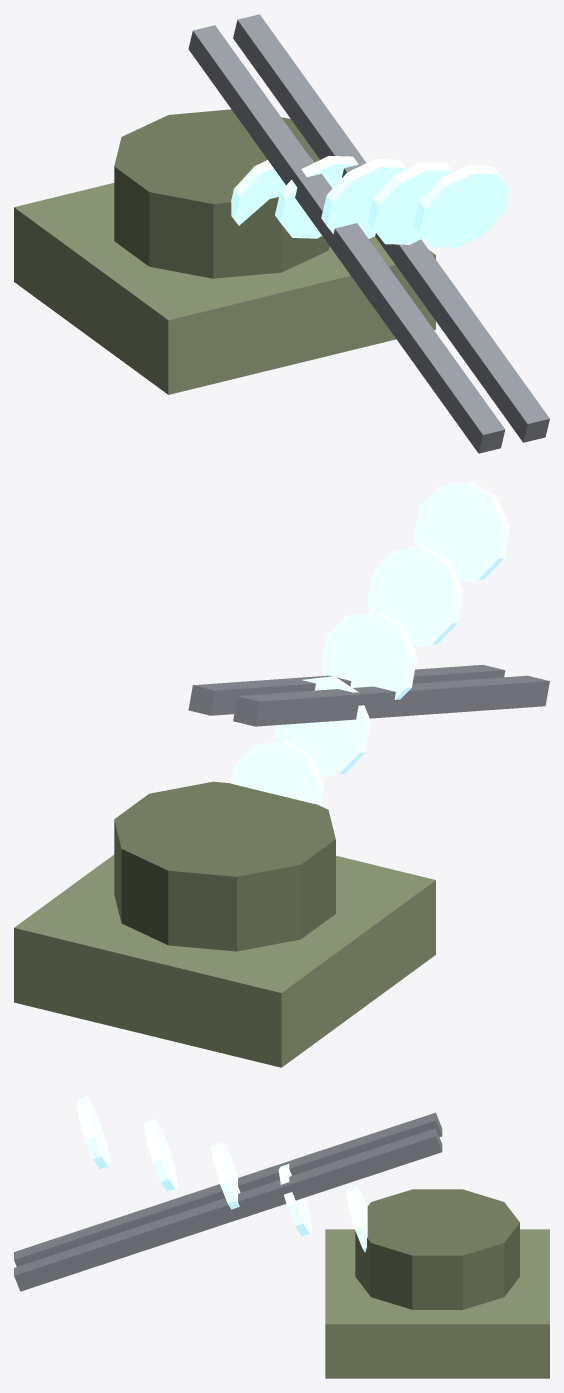
File: railgun.glb
3 renders of one model, top to bottom at view 1: azimuth 30°, elevation 25°; view 2: azimuth 150°, elevation 25°; view 3: azimuth 270°, elevation 25°, orthographic. The views are drawn at different scales.
Visible parts, largest first — view 1: railgun; view 2: railgun; view 3: railgun.
Boxes of the visible parts, bbox=[...] form: railgun: bbox=[14, 14, 549, 453]; railgun: bbox=[14, 482, 549, 1067]; railgun: bbox=[14, 1096, 549, 1378].
Bounding box in the file's own units: 3 × 3.41 × 7.16.
